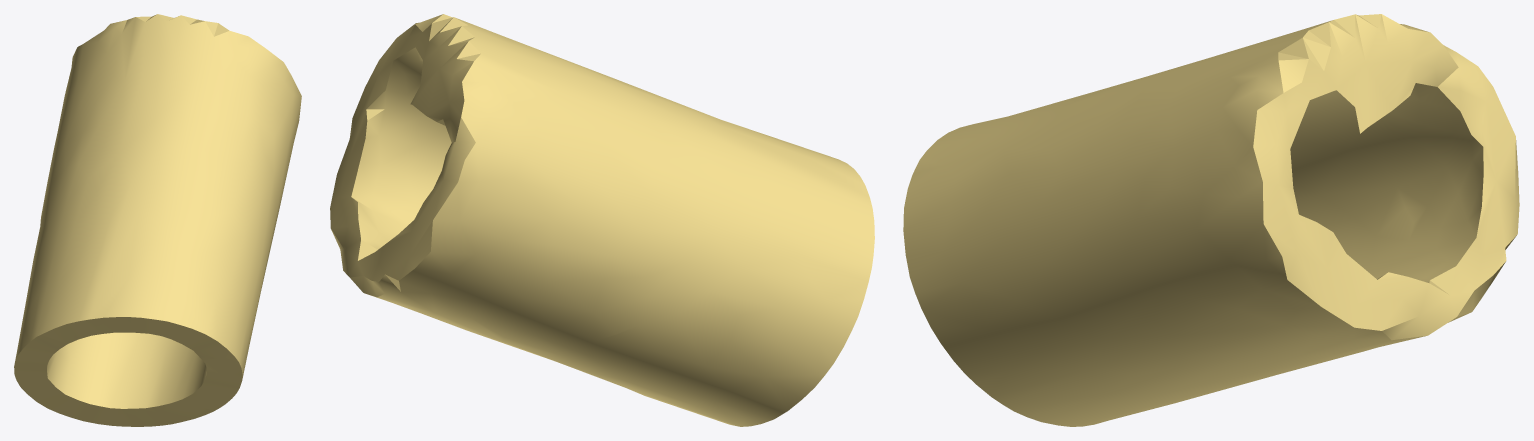
File: fma58726_mm2242m.glb
The picture shows the model from 3 angles, left to right: view 1: azimuth 30°, elevation 25°; view 2: azimuth 150°, elevation 25°; view 3: azimuth 270°, elevation 25°; orthographic projection. The views are drawn at different scales.
Visible parts, largest first — view 1: FMA58726_MM2242M; view 2: FMA58726_MM2242M; view 3: FMA58726_MM2242M.
Part boxes in pixels (x1,y1,x2,y2): FMA58726_MM2242M: [14, 14, 301, 426]; FMA58726_MM2242M: [330, 14, 874, 426]; FMA58726_MM2242M: [903, 14, 1519, 426].
Bounding box in the file's own units: 0.00803 × 0.0074 × 0.00853.
